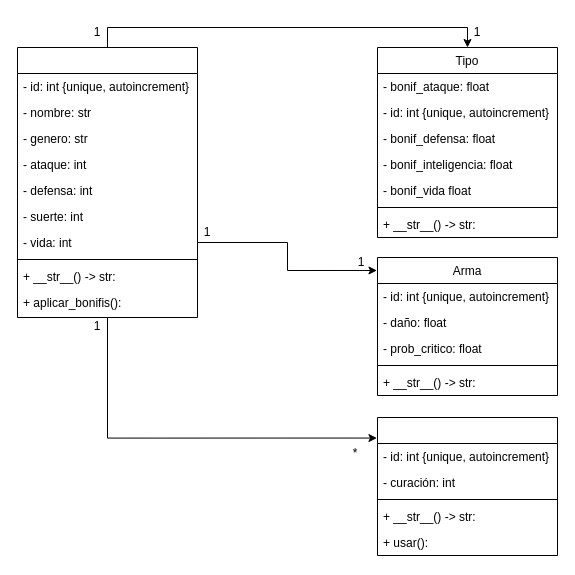
This 575x575 diagram has some shape labels left out. Each missing label, with the box of its shape:
Personaje: (16, 46, 198, 318)
Poción: (376, 416, 558, 556)
